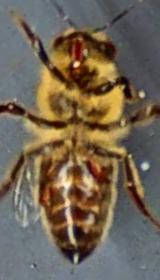varroa_mite: (81, 150, 118, 184)
